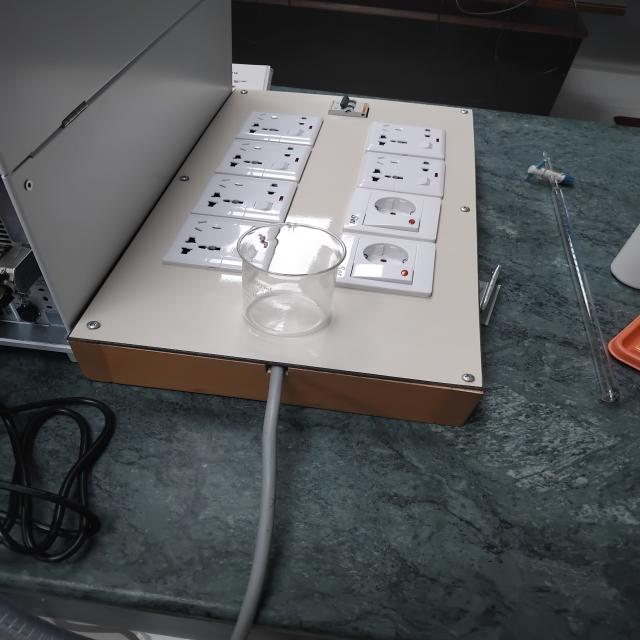Beaker: (208, 200, 378, 368)
